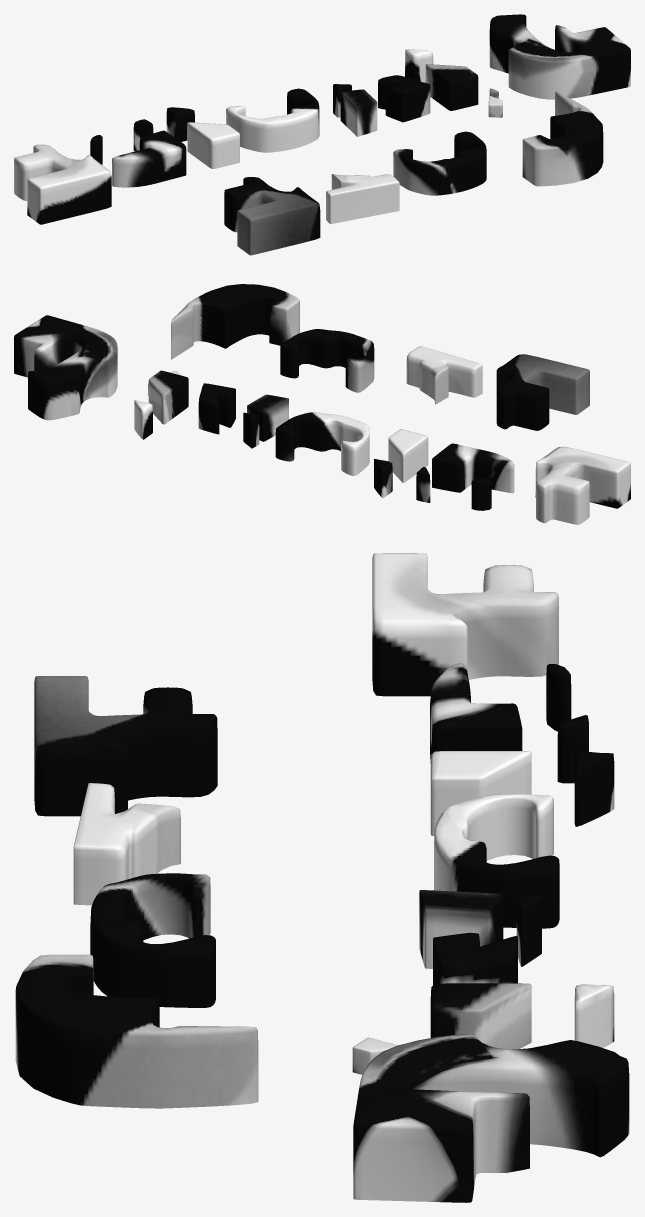
File: codeDivoire_violet.gltf
The picture shows the model from 3 angles, top to bottom: view 1: azimuth 30°, elevation 25°; view 2: azimuth 150°, elevation 25°; view 3: azimuth 270°, elevation 25°; orthographic projection. The views are drawn at different scales.
Parts seen in each view (by area): view 1: violet; view 2: violet; view 3: violet.
Part boxes in pixels (x1=…): violet: x1=14, y1=14, x2=630, y2=255; violet: x1=14, y1=284, x2=630, y2=524; violet: x1=15, y1=553, x2=629, y2=1202.
Bounding box in the file's own units: 18.49 × 1.14 × 8.33.
1 material, 1 textured.
